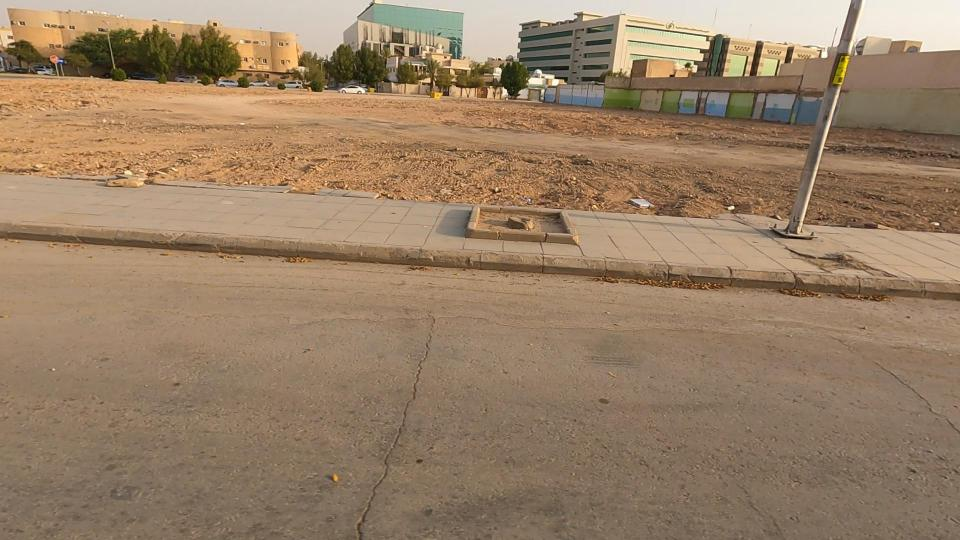UNKEPT_FACADE: (430, 176, 593, 265)
